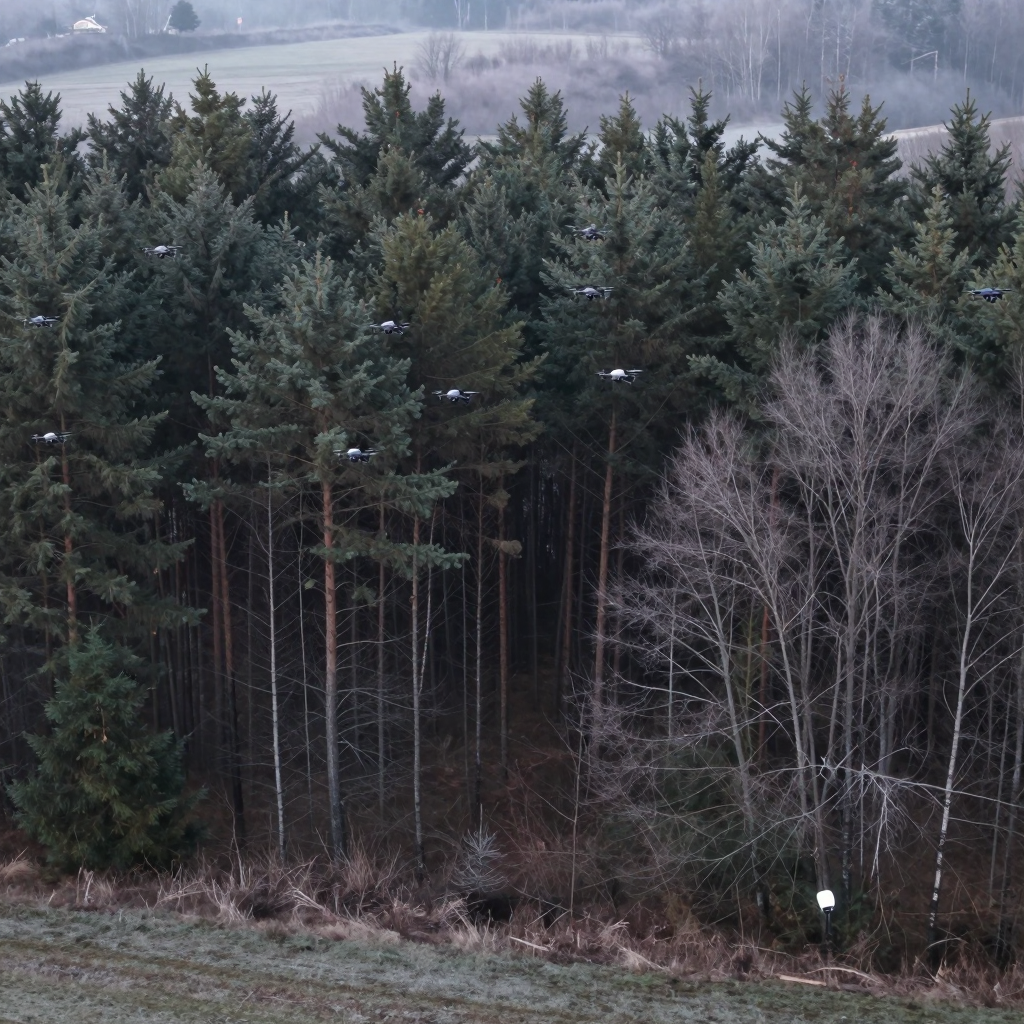drone: (559, 272, 617, 307), (564, 217, 617, 246), (964, 283, 1018, 307), (364, 316, 412, 336), (327, 446, 384, 461), (595, 369, 643, 385), (432, 389, 481, 404), (22, 432, 76, 445), (140, 245, 183, 259), (24, 316, 61, 329)
